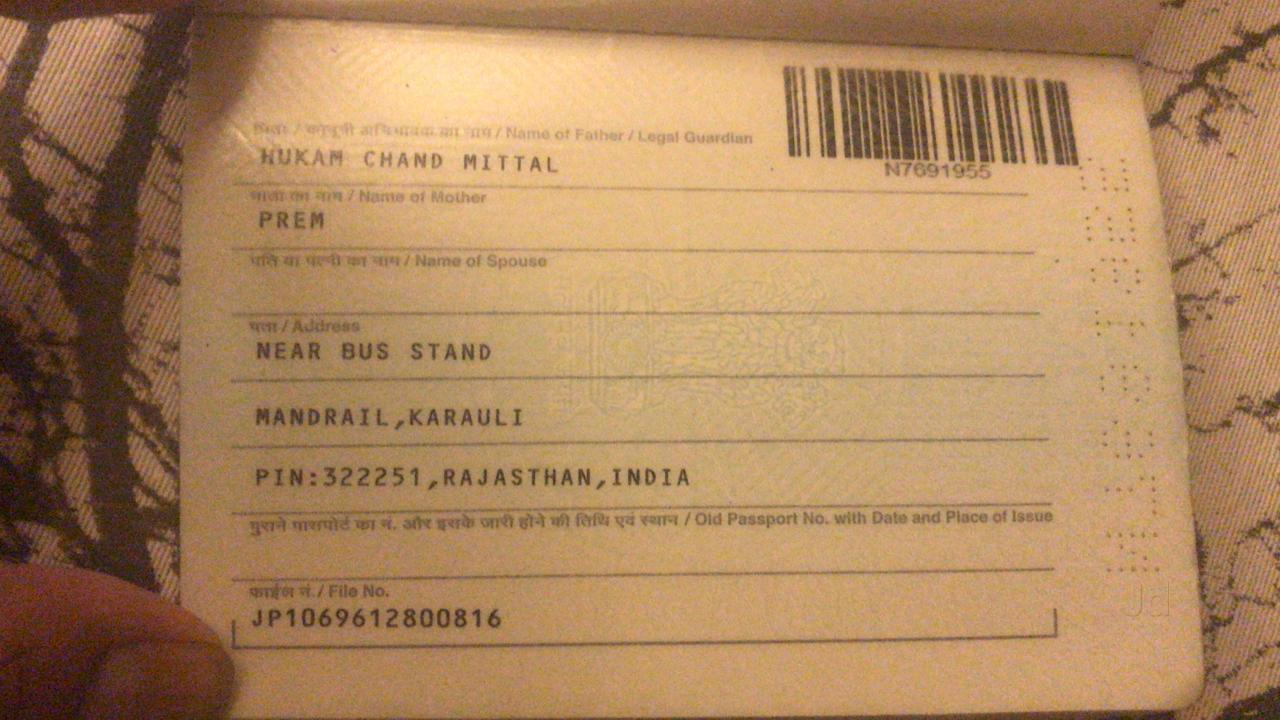File_no: (234, 602, 522, 648)
address: (222, 334, 742, 498)
father_name: (234, 136, 588, 183)
mother_name: (239, 199, 344, 240)
passport_no: (874, 146, 1004, 198)
